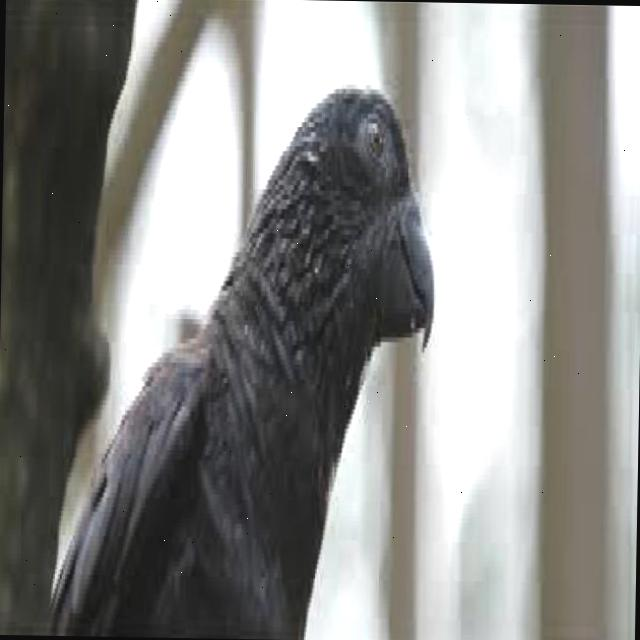Nuri Hitam: (34, 39, 462, 640)
